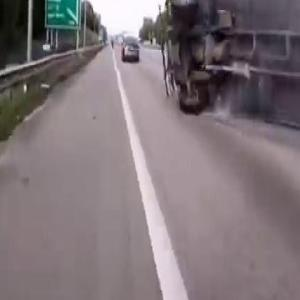fatal: (152, 0, 300, 168)
